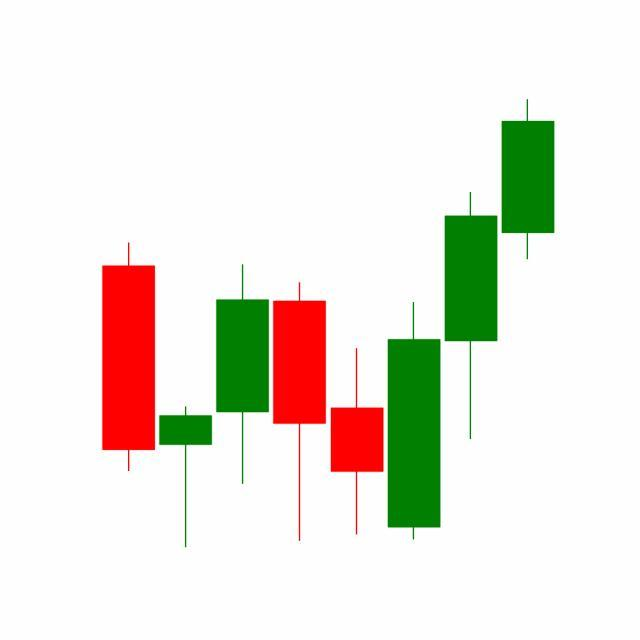Three Outside Up-Down: (328, 188, 500, 544)
